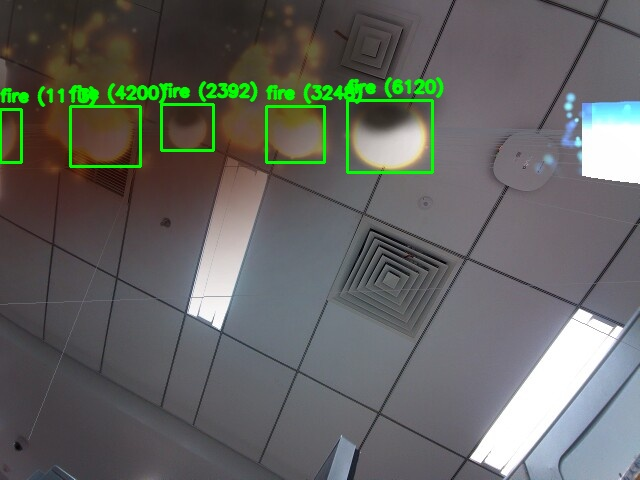fire: (347, 100, 432, 172), (70, 106, 140, 166), (266, 106, 324, 162), (161, 104, 213, 150), (0, 109, 21, 162)
